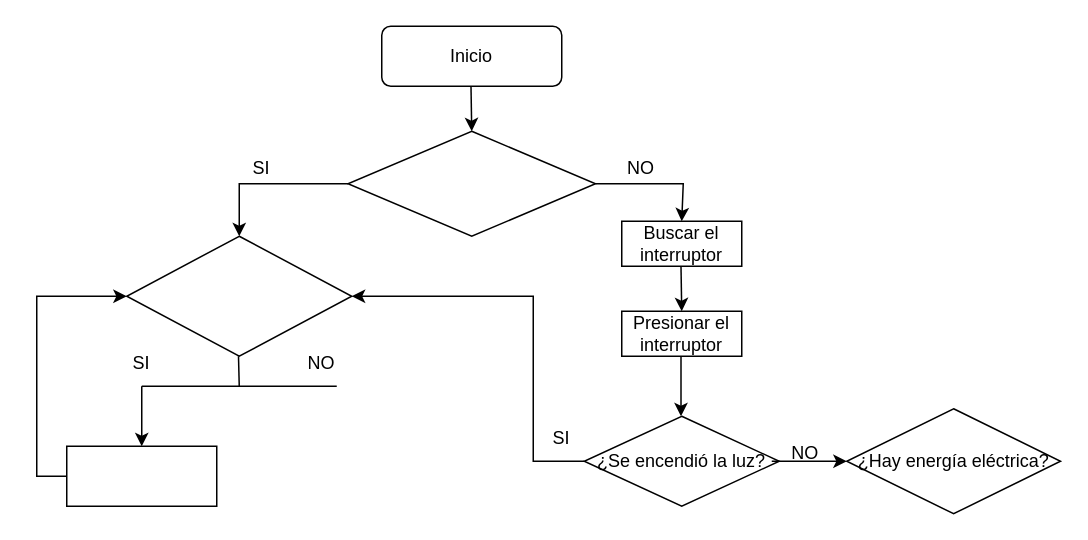
Some shapes in this 1088 by 540 pixel diagram are drawn without their labels. Here are the shapes that lost their labels. From the top down, the box of each, then its label:
(346, 130, 596, 236): ¿Está encendida la luz?
(125, 235, 352, 356): ¿Aun la necesito encendida?
(65, 445, 217, 506): Utilizar la luz
